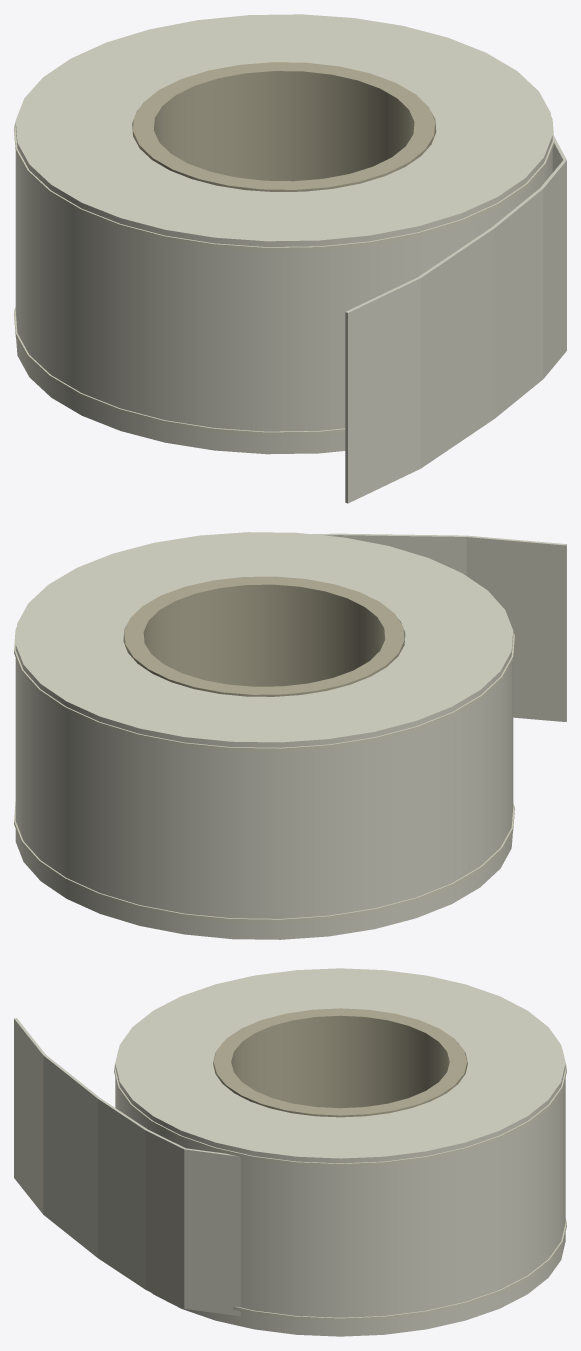
Rendered from MedicalTape.fbx.
3 views of the same model, one above another, from view 1: azimuth 30°, elevation 25°; view 2: azimuth 150°, elevation 25°; view 3: azimuth 270°, elevation 25° (orthographic). The views are drawn at different scales.
Visible parts, largest first — view 1: Medical tape roll, Loose end of tape, Hollow cardboard core, Fine winding edge.001, Fine winding edge; view 2: Medical tape roll, Hollow cardboard core, Loose end of tape, Fine winding edge.001, Fine winding edge; view 3: Medical tape roll, Loose end of tape, Hollow cardboard core, Fine winding edge.001, Fine winding edge.
Part boxes in pixels (x1,y1,x2,y2): Medical tape roll: (15,14,552,454); Loose end of tape: (345,136,566,503); Hollow cardboard core: (133,62,435,191); Fine winding edge.001: (14,116,554,251); Fine winding edge: (14,307,345,436); Medical tape roll: (15,532,513,939); Hollow cardboard core: (124,576,404,696); Loose end of tape: (312,533,566,721); Fine winding edge.001: (14,627,514,751); Fine winding edge: (14,801,514,923); Medical tape roll: (115,968,565,1336); Loose end of tape: (14,1018,240,1316); Hollow cardboard core: (213,1008,467,1117); Fine winding edge.001: (114,1049,566,1167); Fine winding edge: (233,1218,566,1321).
Size of the model in its own units: 0.0572 by 0.025 by 0.0698.
